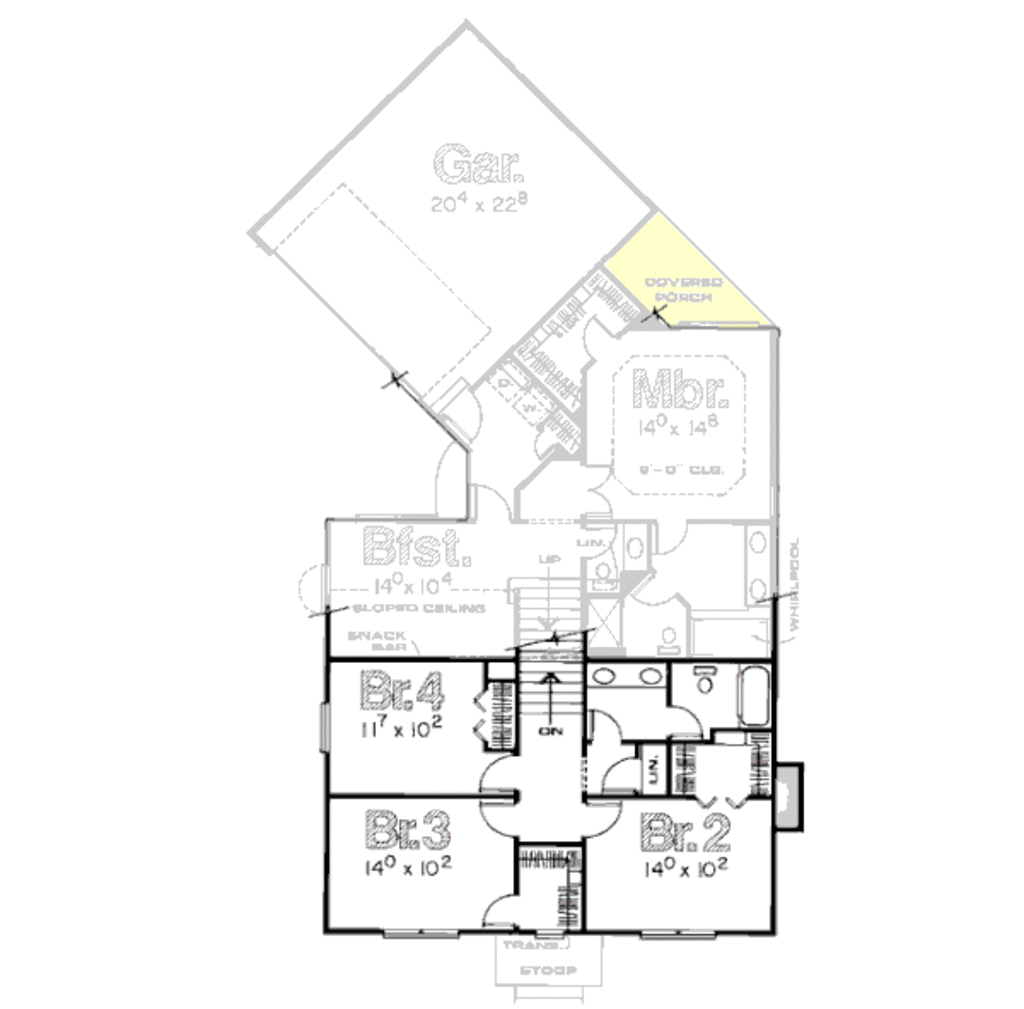door: (444, 385, 486, 447), (576, 464, 616, 523), (475, 750, 523, 795), (578, 801, 628, 844), (470, 484, 517, 529), (597, 752, 642, 798), (576, 310, 612, 359), (477, 795, 518, 838), (632, 572, 682, 607), (654, 519, 694, 559), (663, 701, 703, 739), (482, 893, 520, 933), (587, 706, 623, 744), (528, 424, 559, 464)
large_sink: (686, 656, 730, 702), (646, 620, 682, 659)
small_sink: (737, 520, 769, 609), (585, 659, 666, 694), (624, 523, 652, 570)
stairs: (504, 552, 593, 736)
tub: (733, 664, 777, 733)
window: (635, 927, 718, 948), (378, 924, 461, 943), (317, 695, 339, 753)
